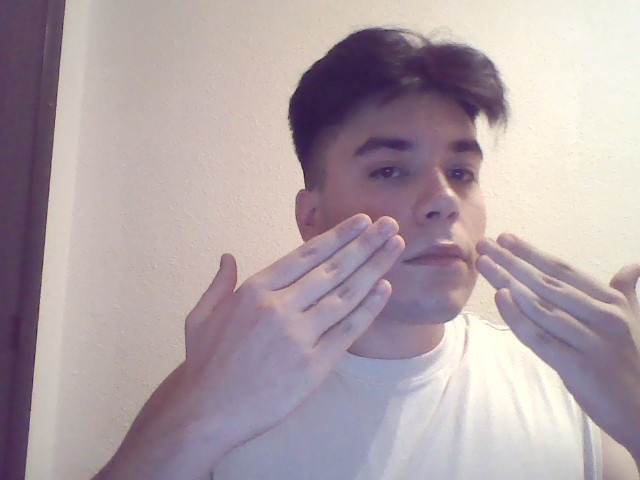Gracias: (178, 215, 640, 395)
